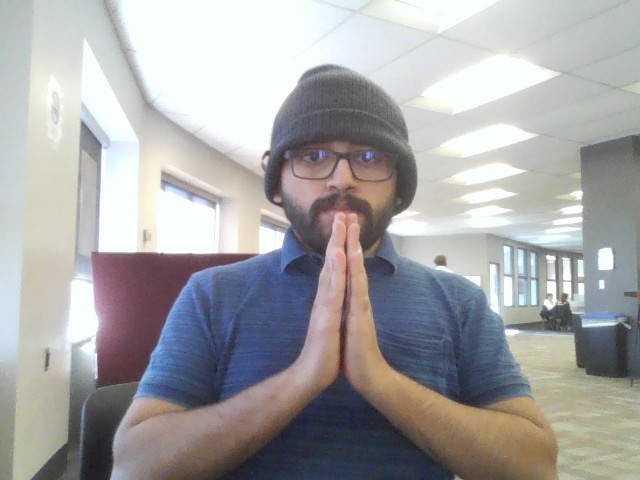start: (295, 207, 399, 410)
